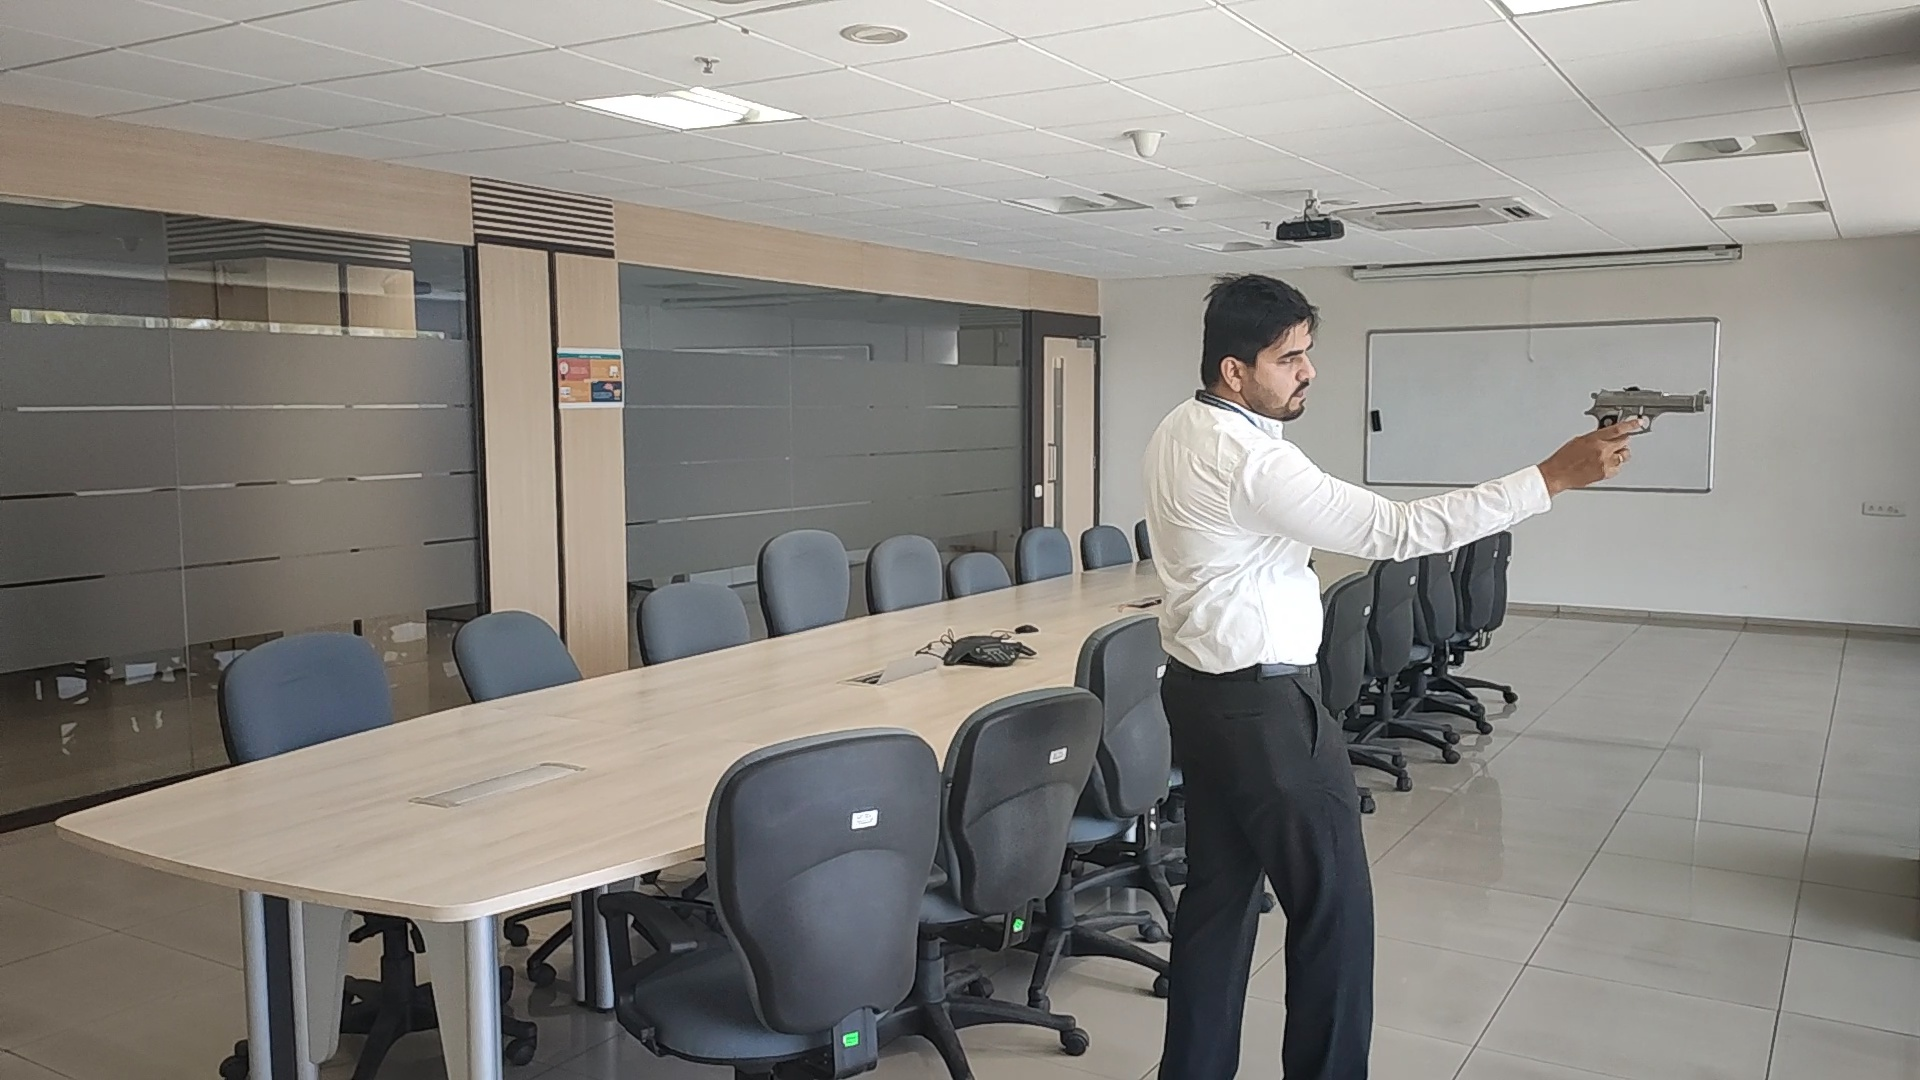gun: (1582, 385, 1712, 419)
